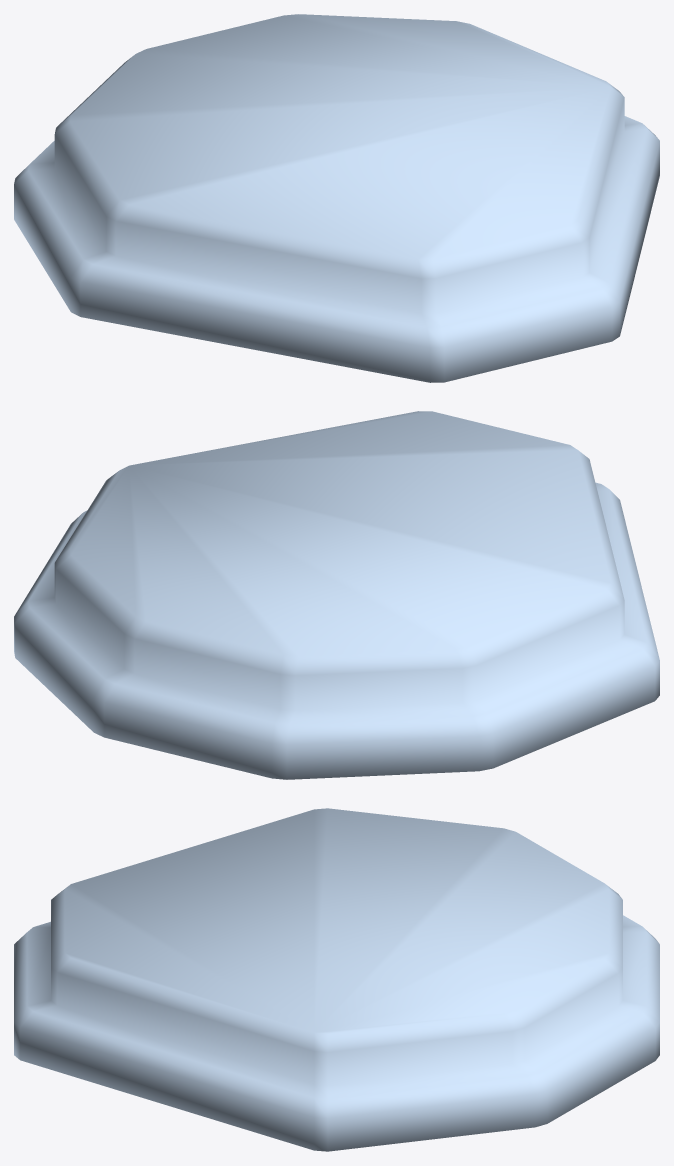
File: jetMount.obj
3 views of the same model, one above another, from view 1: azimuth 30°, elevation 25°; view 2: azimuth 150°, elevation 25°; view 3: azimuth 270°, elevation 25° (orthographic). The views are drawn at different scales.
Visible parts, largest first — view 1: jetMount; view 2: jetMount; view 3: jetMount.
Boxes of the visible parts, x1=… form: jetMount: x1=14, y1=14, x2=659, y2=382; jetMount: x1=14, y1=411, x2=659, y2=779; jetMount: x1=14, y1=808, x2=659, y2=1151.
Size of the model in its own units: 1.04 by 0.1714 by 1.05.
